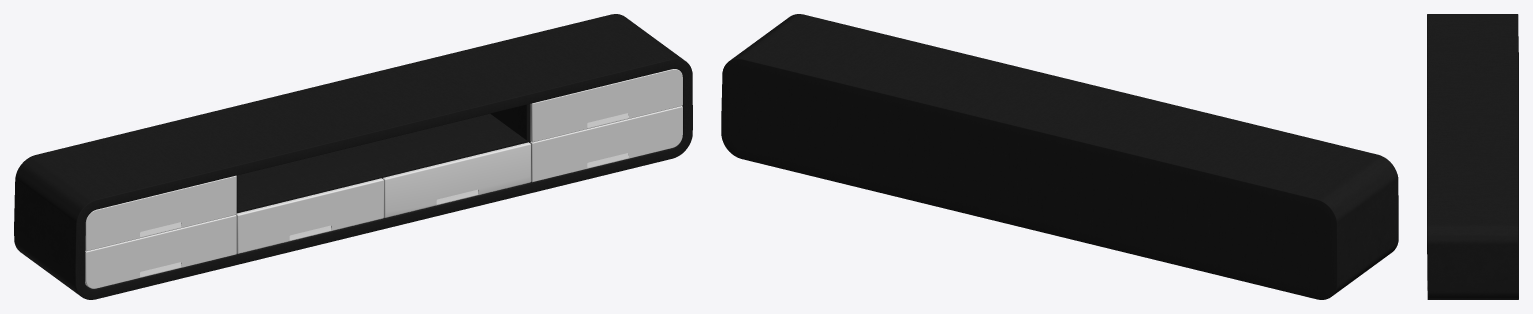
File: TvTable.fbx
3 renders of one model, left to right at view 1: azimuth 30°, elevation 25°; view 2: azimuth 150°, elevation 25°; view 3: azimuth 270°, elevation 25°, orthographic. The views are drawn at different scales.
Parts seen in each view (by area): view 1: Tv_Table; view 2: Tv_Table; view 3: Tv_Table.
Boxes of the visible parts, x1,y1,x2,y2 form: Tv_Table: (14,14,692,299); Tv_Table: (721,14,1398,299); Tv_Table: (1427,14,1518,299).
Bounding box in the file's own units: 5.26 × 0.9143 × 0.8144.
